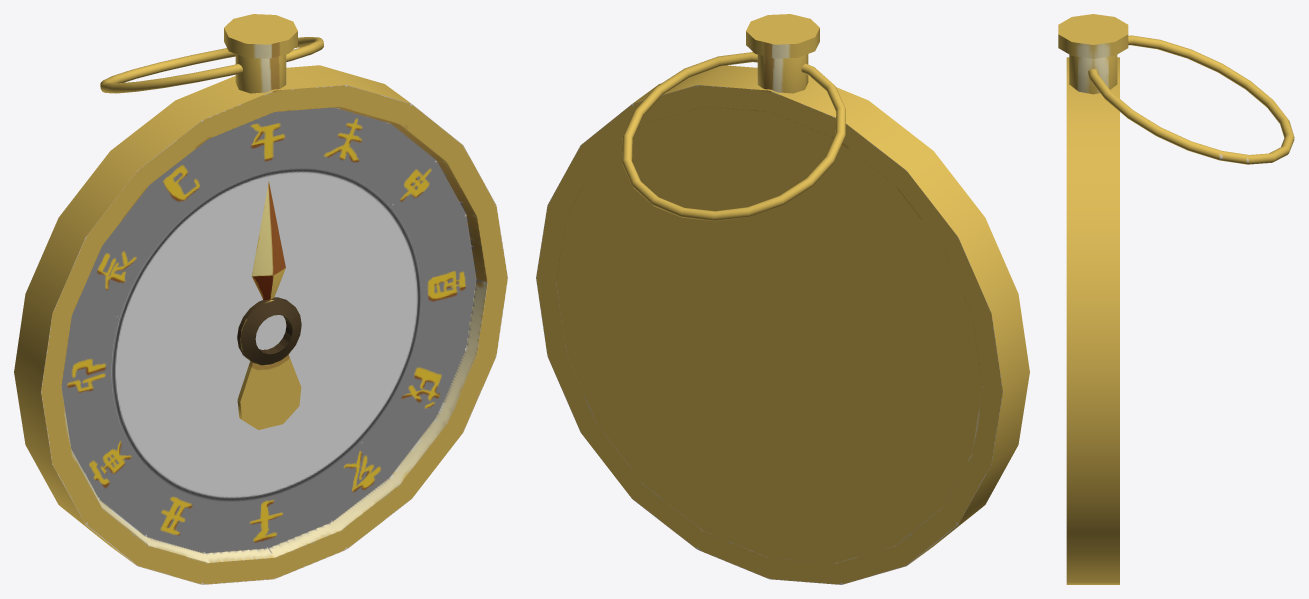
Rendered from timestop1.fbx.
The picture shows the model from 3 angles, left to right: view 1: azimuth 30°, elevation 25°; view 2: azimuth 150°, elevation 25°; view 3: azimuth 270°, elevation 25°; orthographic projection.
Visible parts, largest first — view 1: polySurface8; view 2: polySurface8; view 3: polySurface8.
Part boxes in pixels (left/top/right/bottom): polySurface8: left=14, top=14, right=507, bottom=584; polySurface8: left=536, top=14, right=1029, bottom=584; polySurface8: left=1058, top=14, right=1294, bottom=584.
Size of the model in its own units: 100 by 111 by 44.4.
1 material, 1 textured.
